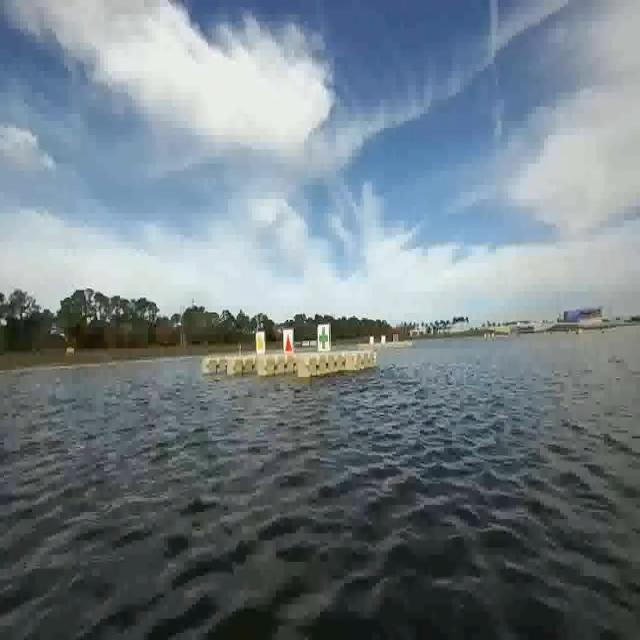blue-cross: (319, 326, 331, 358)
red-dot: (282, 328, 294, 355)
yellow-duck: (254, 332, 266, 355)
